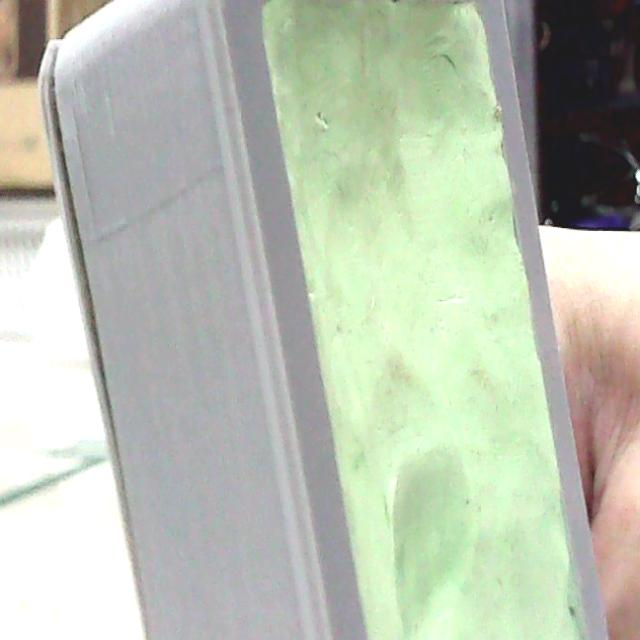block: (46, 0, 614, 640)
